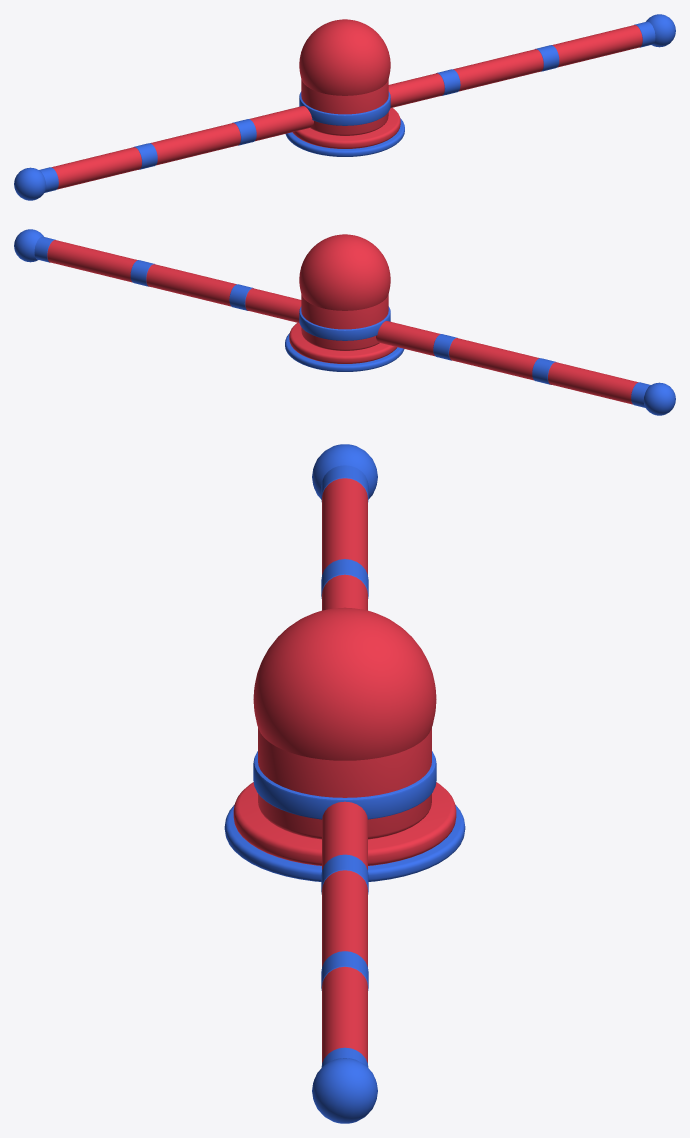
Rendered from SD_Sweeper_Large.fbx.
3 renders of one model, top to bottom at view 1: azimuth 30°, elevation 25°; view 2: azimuth 150°, elevation 25°; view 3: azimuth 270°, elevation 25°, orthographic. The views are drawn at different scales.
Parts seen in each view (by area): view 1: Arm, Base; view 2: Arm, Base; view 3: Base, Arm.
Boxes of the visible parts, left/top/right/bottom form: Arm: left=14, top=14, right=675, bottom=200; Base: left=285, top=19, right=404, bottom=156; Arm: left=14, top=229, right=675, bottom=415; Base: left=285, top=234, right=404, bottom=371; Base: left=224, top=607, right=465, bottom=881; Arm: left=312, top=444, right=377, bottom=1123.
Size of the model in its own units: 13.8 by 2.18 by 2.18.
